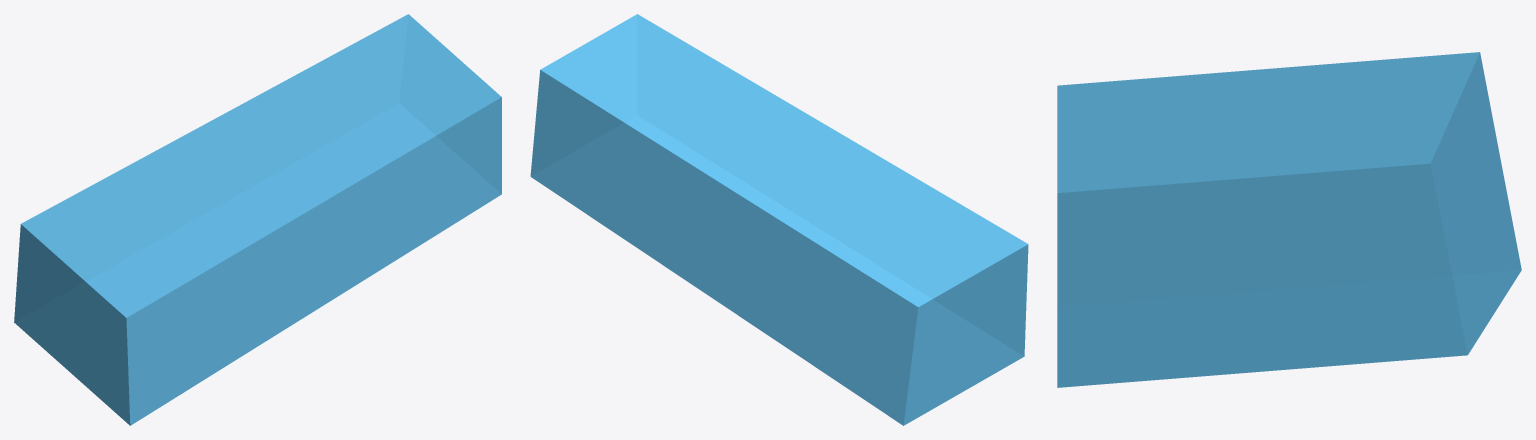
Rendered from Event_420107950_HErechit_3.fbx.
The picture shows the model from 3 angles, left to right: view 1: azimuth 30°, elevation 25°; view 2: azimuth 150°, elevation 25°; view 3: azimuth 270°, elevation 25°; orthographic projection. The views are drawn at different scales.
Visible parts, largest first — view 1: Model; view 2: Model; view 3: Model.
Boxes of the visible parts, x1,y1,x2,y2 form: Model: (14,14,501,425); Model: (530,14,1028,425); Model: (1057,52,1521,387).
Size of the model in its own units: 1.35 by 0.8697 by 0.7238.
